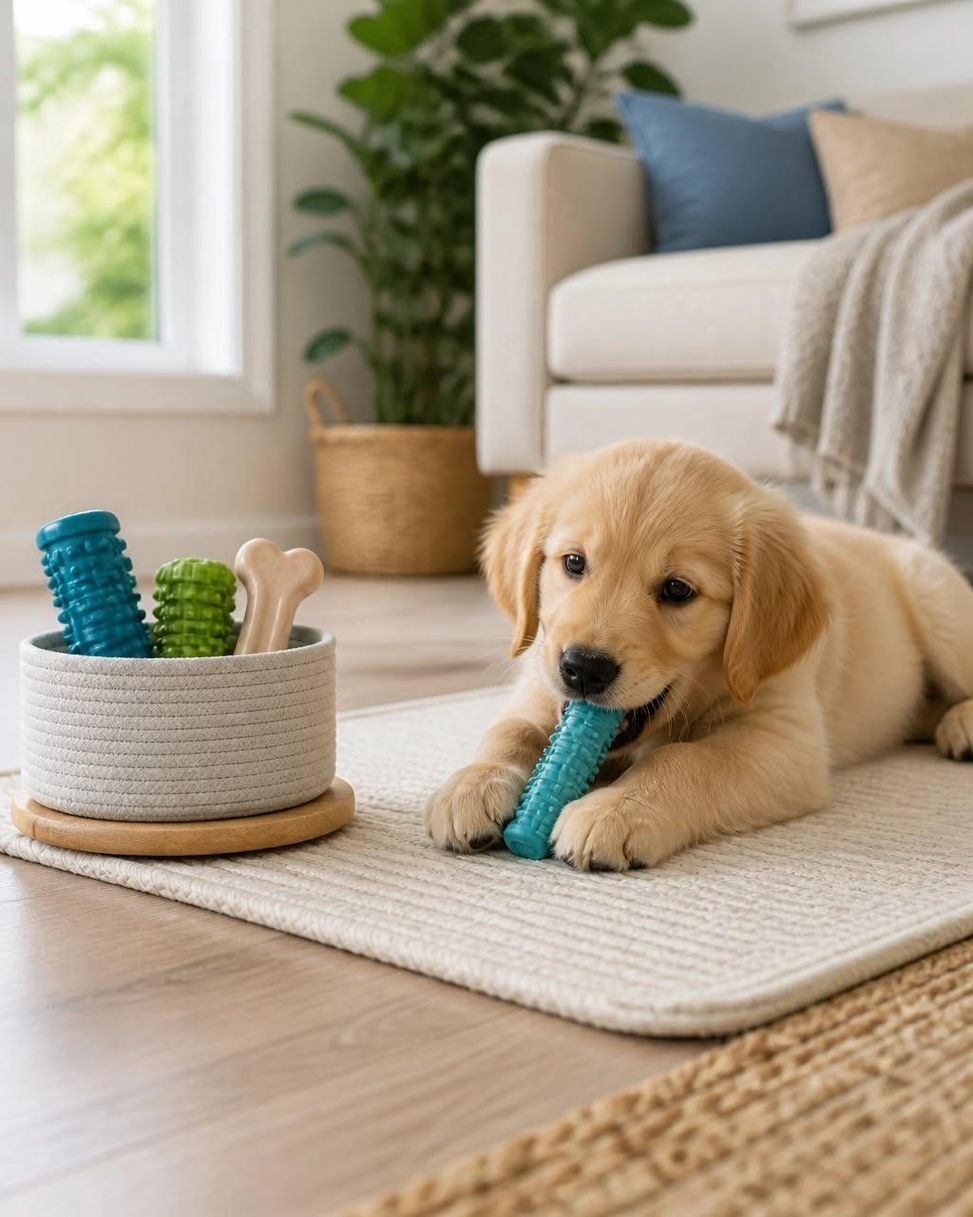puppy-dog: (422, 437, 973, 873)
